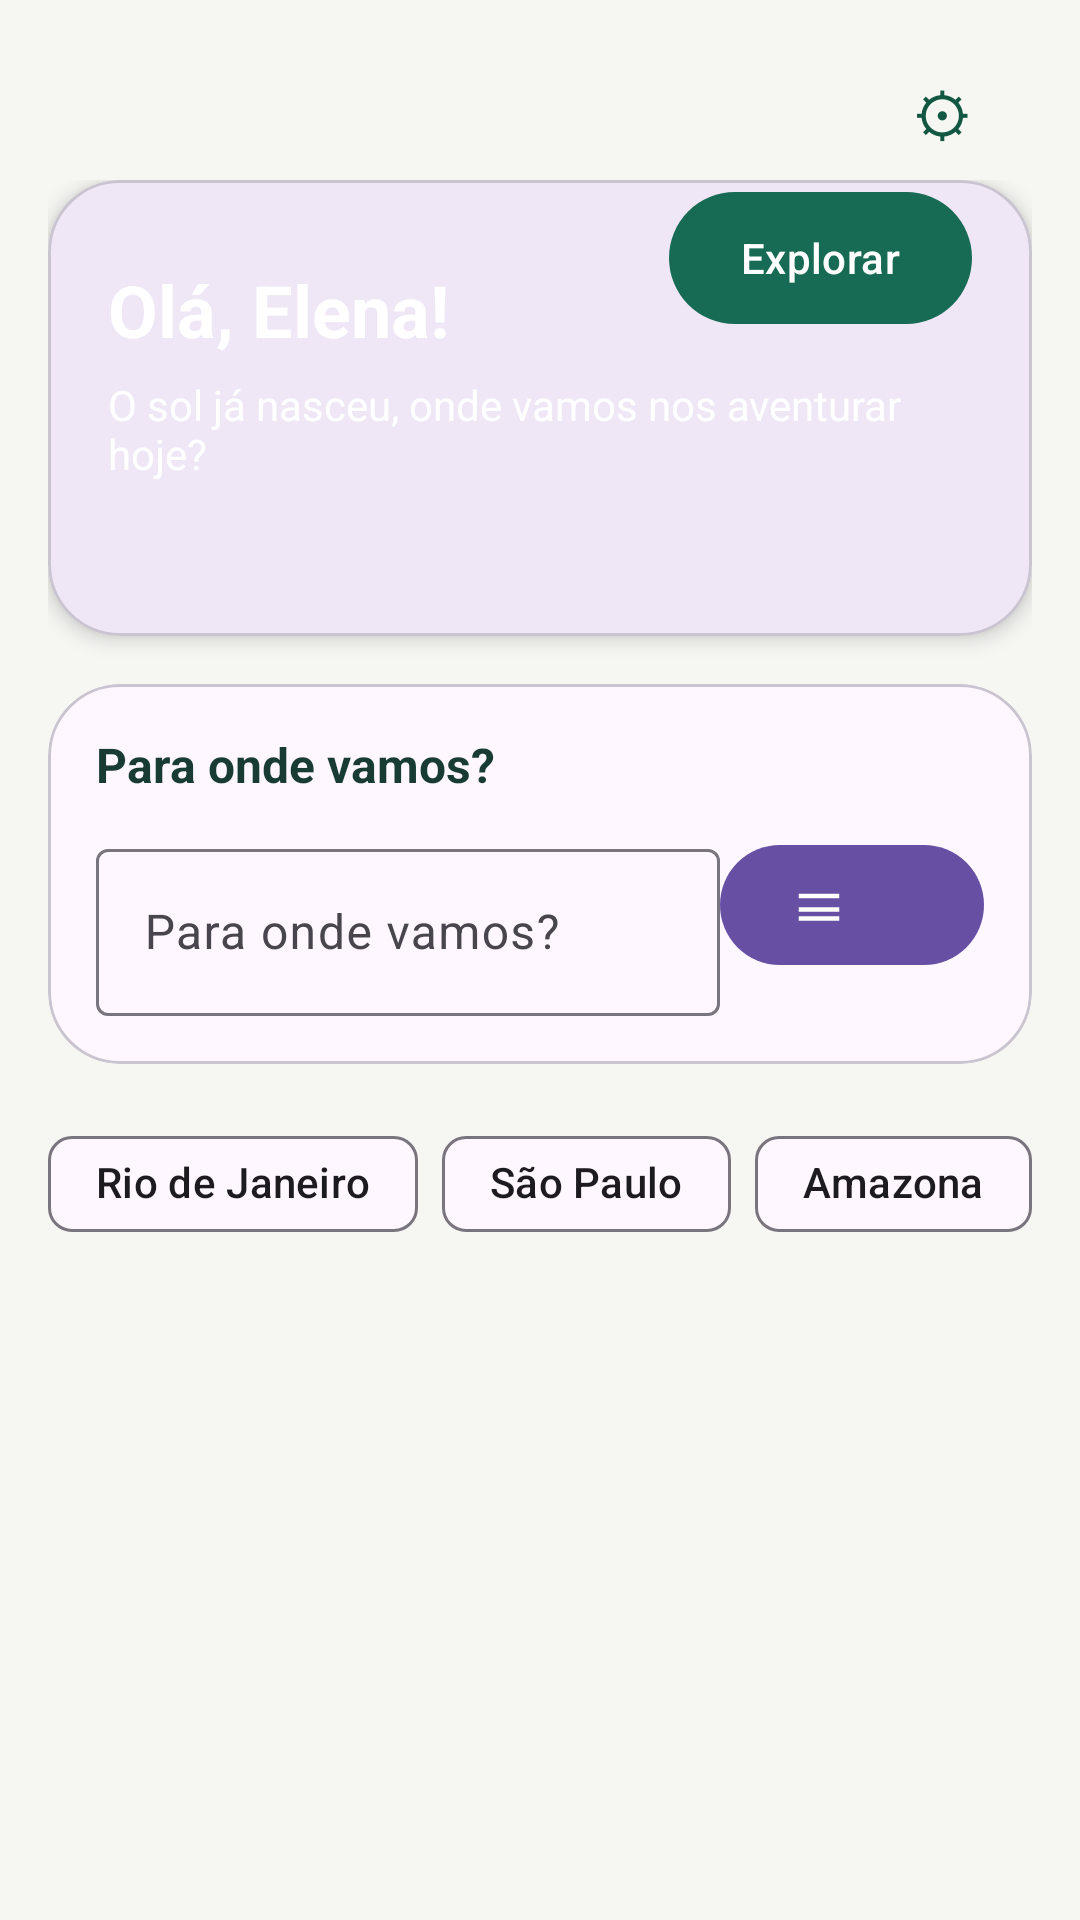

Named icons in this screenshot (1080*1920) and their bounding boxes, {"x1": x1, "y1": y1, "x2": x2, "y2": y2}:
filter: {"x1": 720, "y1": 845, "x2": 984, "y2": 965}
